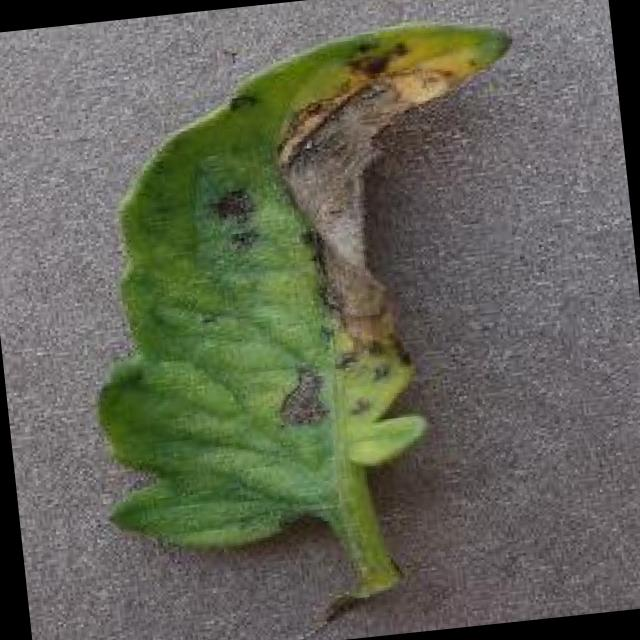Tomato_Early_Blight: (192, 9, 540, 454)
